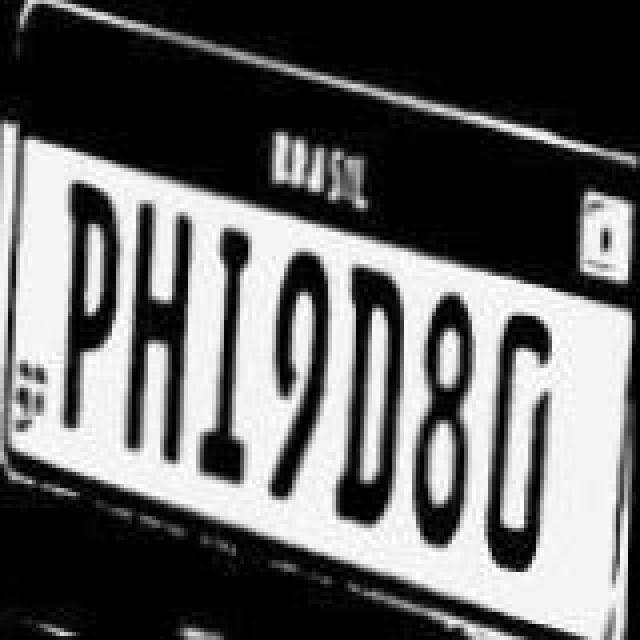8: (410, 288, 482, 544)
9: (266, 236, 334, 512)
D: (340, 238, 416, 538), (484, 294, 556, 578)
H: (126, 200, 202, 476)
I: (198, 226, 258, 494)
P: (58, 176, 126, 440)
